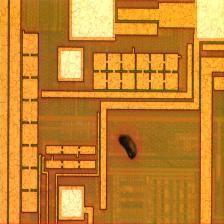PARTICLE: (112, 132, 144, 164)
